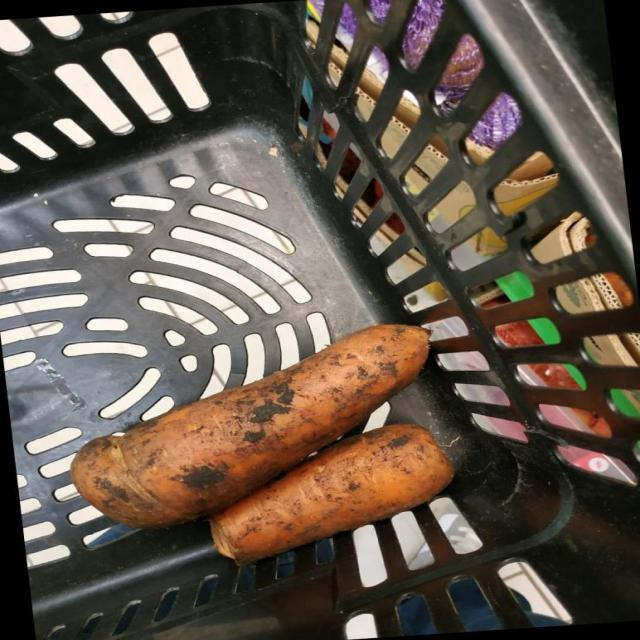Carrot: (69, 325, 429, 529), (209, 424, 454, 565)
